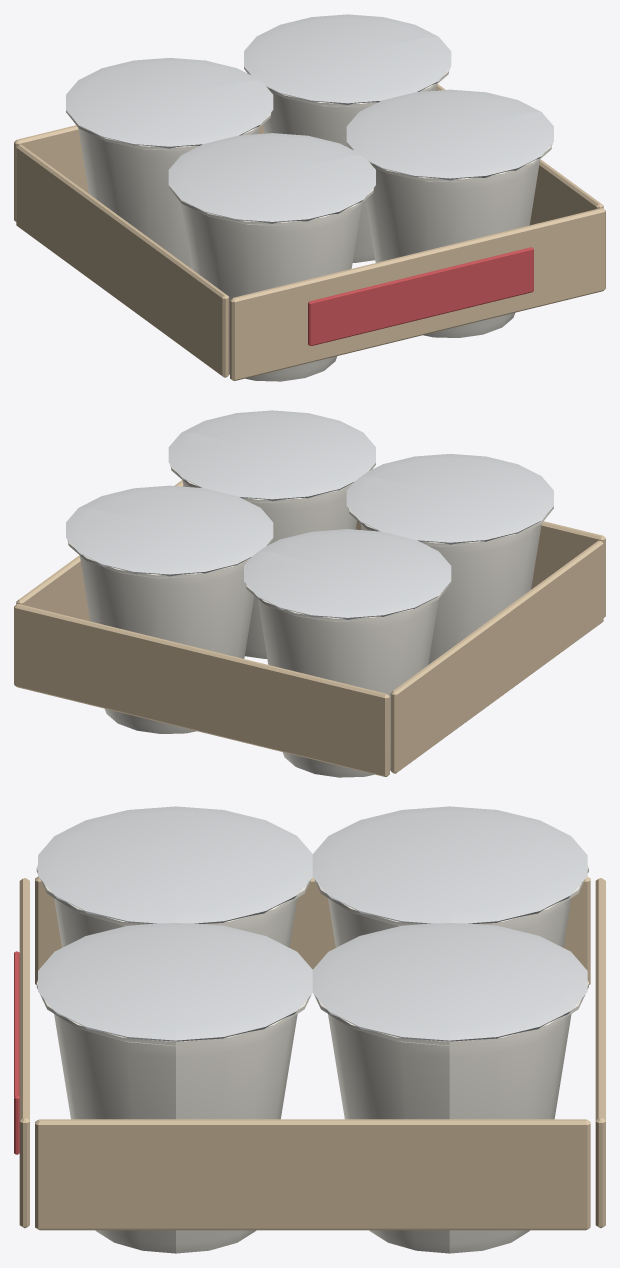
The model's file is fresh-produce-and-groceries-yoghurt-multipack-e39690dd__24394.glb.
3 renders of one model, top to bottom at view 1: azimuth 30°, elevation 25°; view 2: azimuth 150°, elevation 25°; view 3: azimuth 270°, elevation 25°, orthographic. The views are drawn at different scales.
Parts seen in each view (by area): view 1: yoghurt-multipack; view 2: yoghurt-multipack; view 3: yoghurt-multipack.
Boxes of the visible parts, x1,y1,x2,y2 form: yoghurt-multipack: (14, 14, 605, 381); yoghurt-multipack: (14, 410, 605, 777); yoghurt-multipack: (14, 806, 605, 1253).
Bounding box in the file's own units: 0.1456 × 0.0658 × 0.147.
